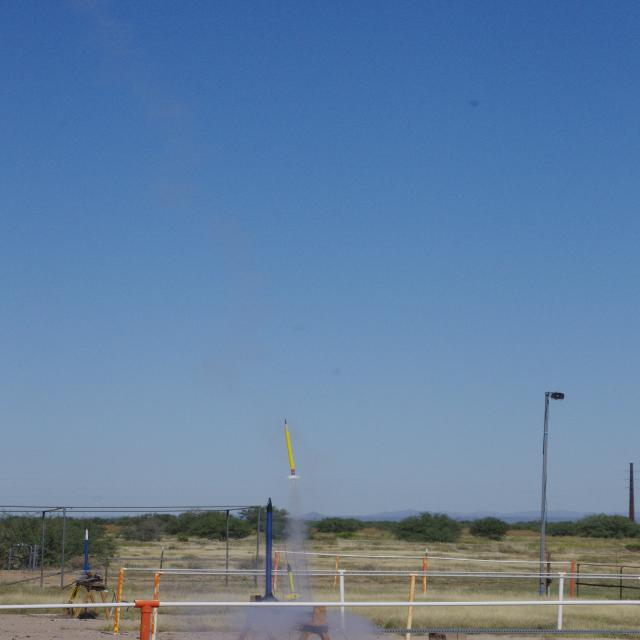Rocket: (255, 497, 280, 602), (284, 418, 301, 480), (286, 562, 302, 600), (82, 528, 90, 572)
